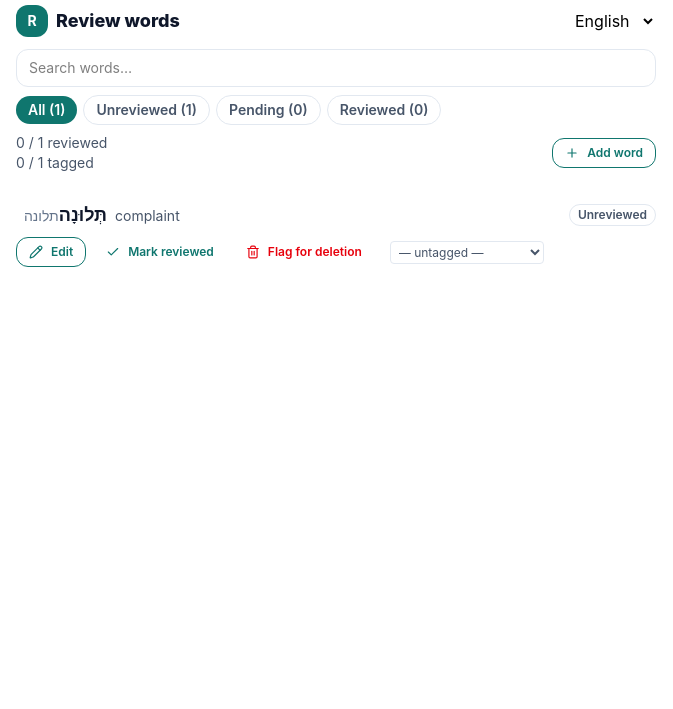
Test: AdminDictionaryPage › save is disabled until a field changes, then saves a draft for a reviewer
The width and height of the screenshot is (673, 709).
Expected: the text "תְּלוּנָה" is shown, [59, 204, 107, 225]
Click the button "Edit": click(51, 252) [16, 237, 86, 267]
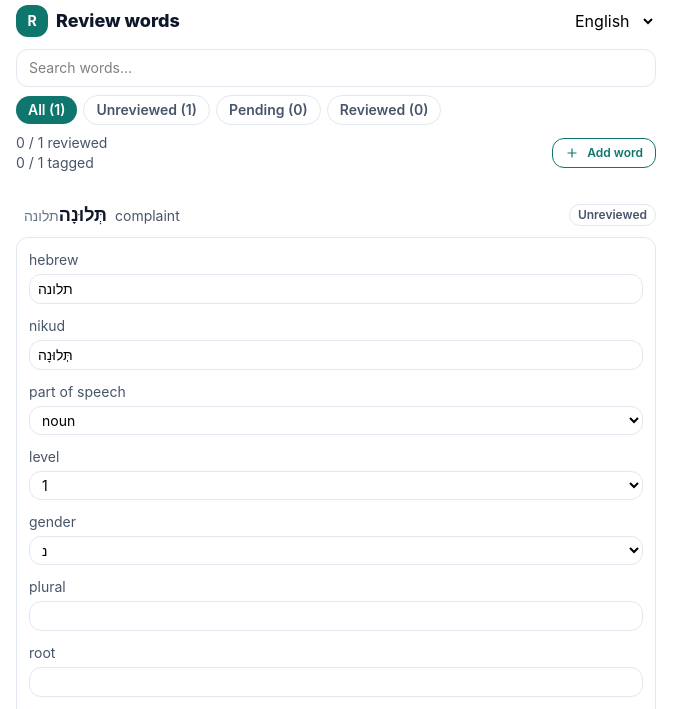
Replace the text in the field labelled "hebrew" with "כאב": (336, 289) [29, 274, 643, 304]
(page scrolled)
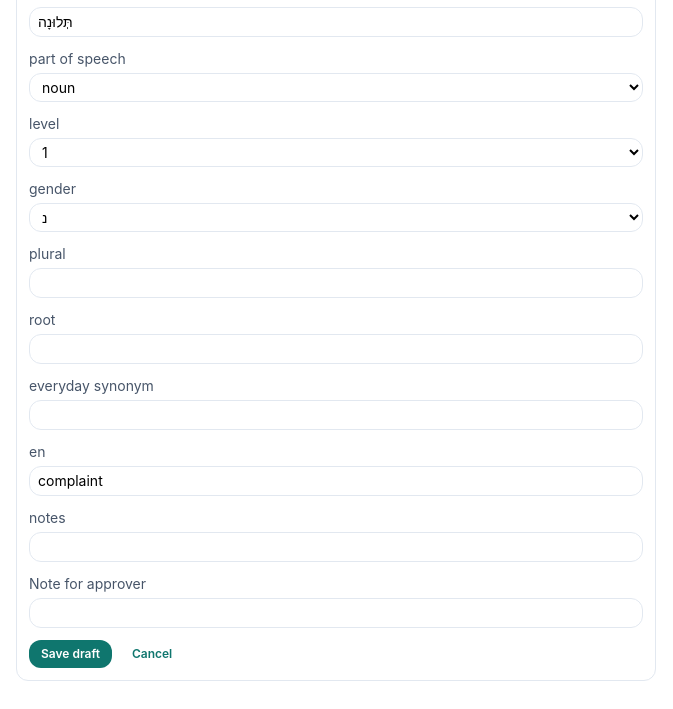
Expected: the button "Save draft" is enabled
Click the button "Save draft": click(70, 654) [29, 640, 112, 668]
(page scrolled)
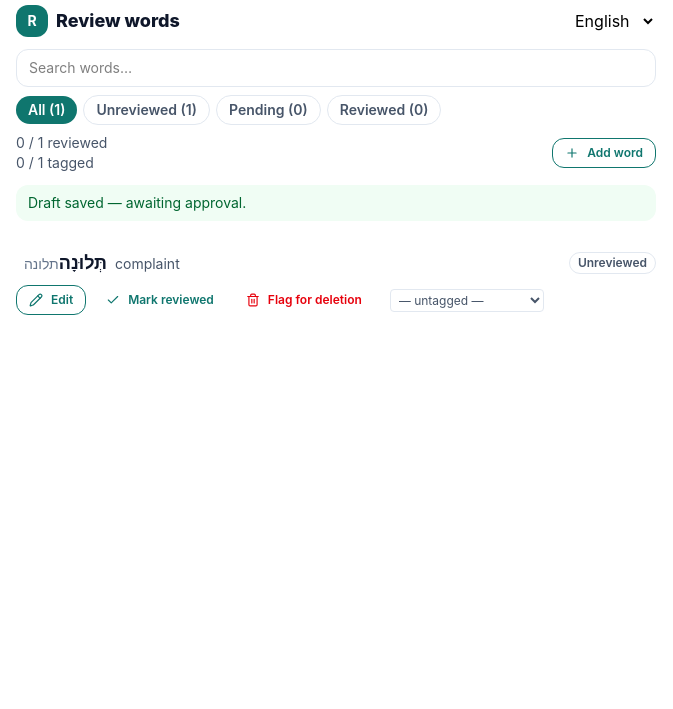
Expected: the message shows "Draft saved", [28, 194, 246, 211]
